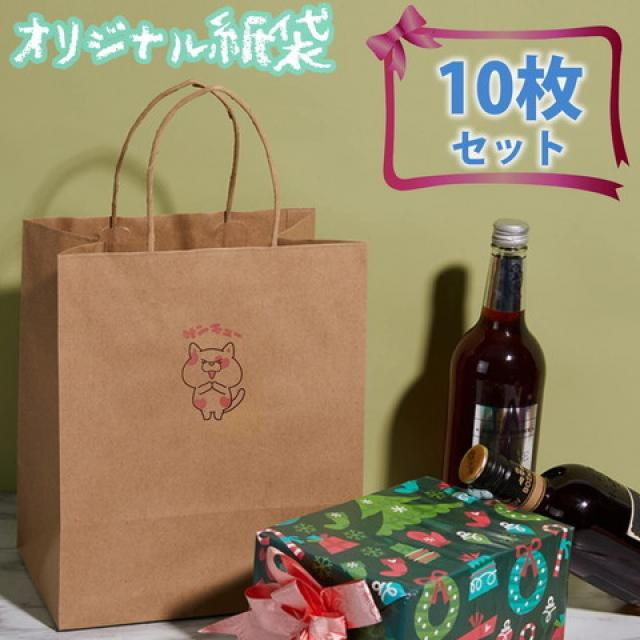paper bag: (21, 78, 366, 633)
